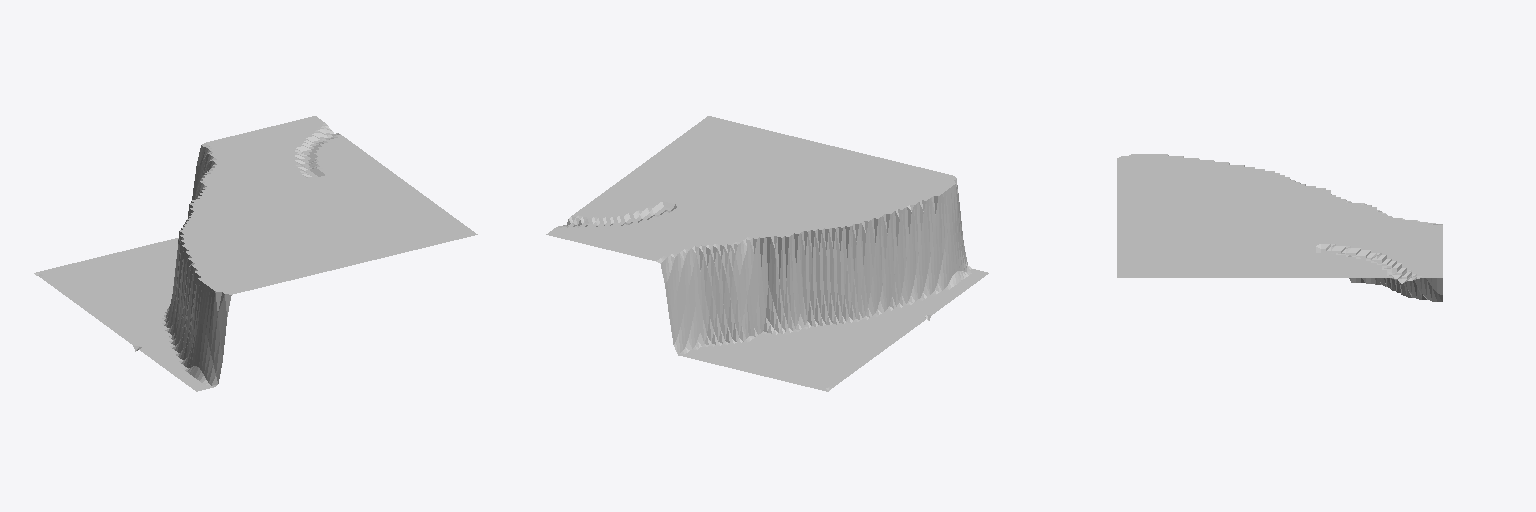
Rendered from SM_Terrain_Tuto1Chunk2.2.obj.
The picture shows the model from 3 angles: view 1: azimuth 30°, elevation 25°; view 2: azimuth 150°, elevation 25°; view 3: azimuth 270°, elevation 25°; orthographic projection.
Size of the model in its own units: 100 by 31.5 by 100.